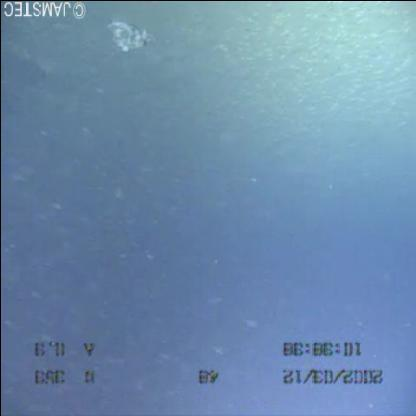Rác: (100, 13, 160, 64)
